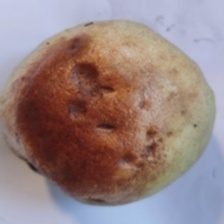guava: (5, 46, 192, 216)
